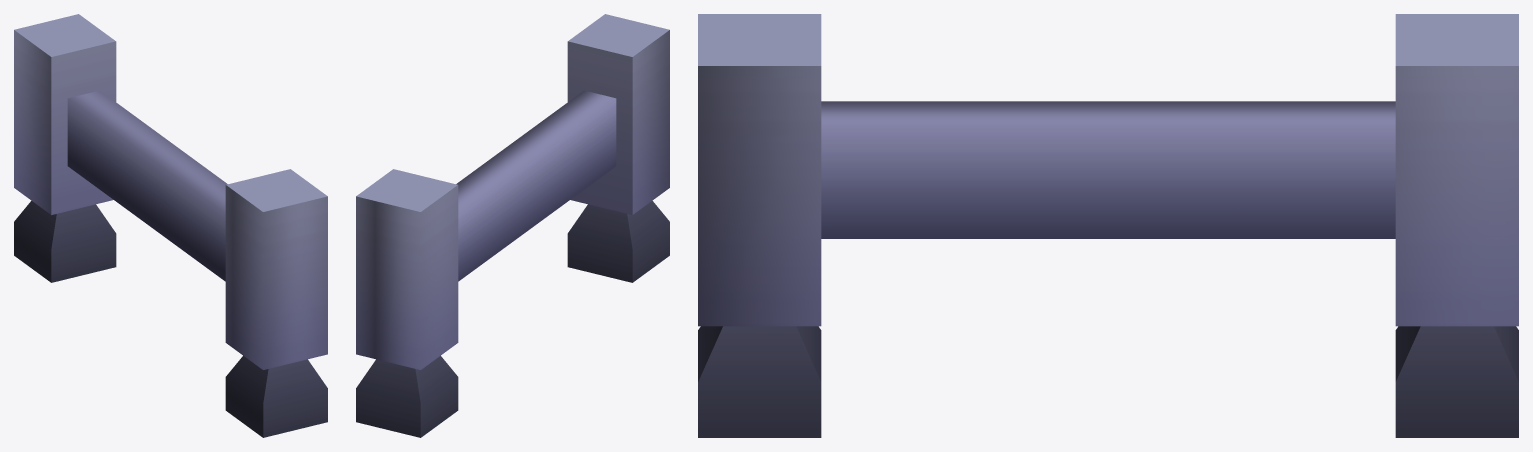
File: kenney-conveyor-structure-short.glb
3 views of the same model, side by side, from view 1: azimuth 30°, elevation 25°; view 2: azimuth 150°, elevation 25°; view 3: azimuth 270°, elevation 25° (orthographic). The views are drawn at different scales.
Visible parts, largest first — view 1: structure-short; view 2: structure-short; view 3: structure-short.
Boxes of the visible parts, x1,y1,x2,y2 form: structure-short: (14, 14, 327, 437); structure-short: (356, 14, 669, 437); structure-short: (698, 14, 1518, 437).
Size of the model in its own units: 0.15 by 0.5001 by 1.
Materials: 1 (1 with a texture image).
